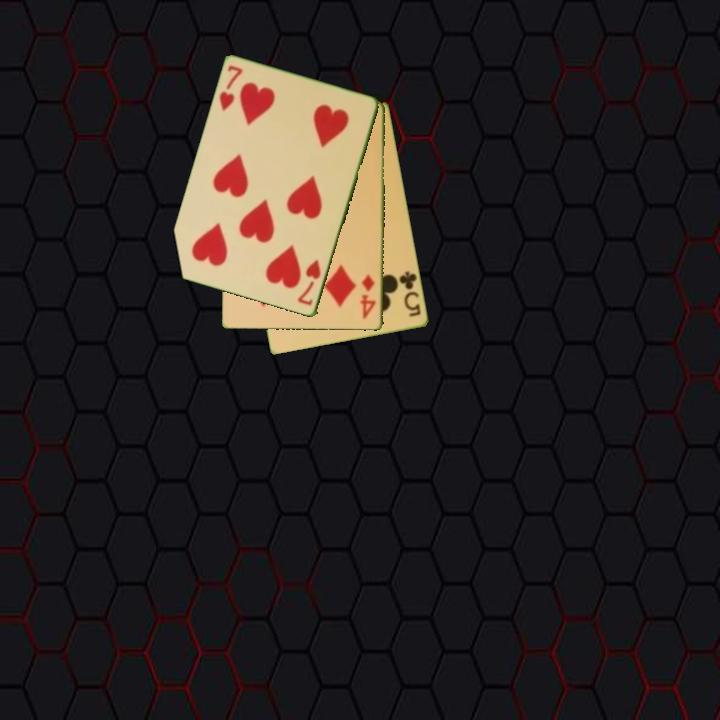4d: (357, 270, 379, 322)
5c: (396, 268, 424, 320)
7h: (294, 256, 324, 309), (216, 62, 246, 114)
